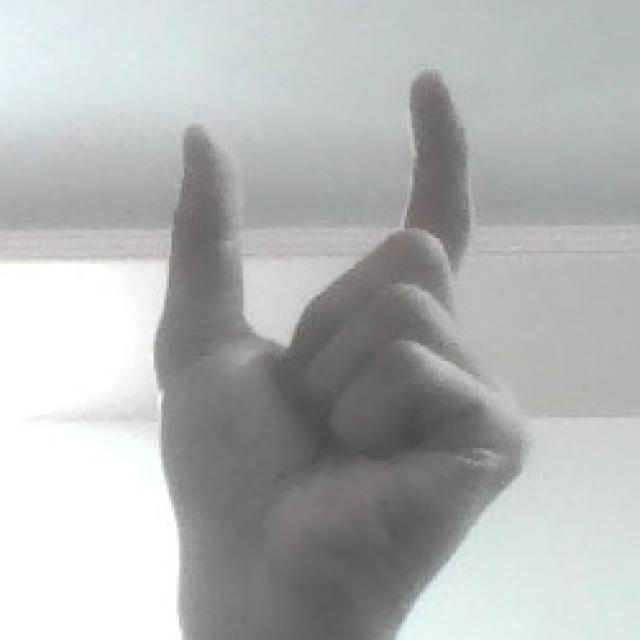Alphabet-U: (136, 69, 539, 604)
